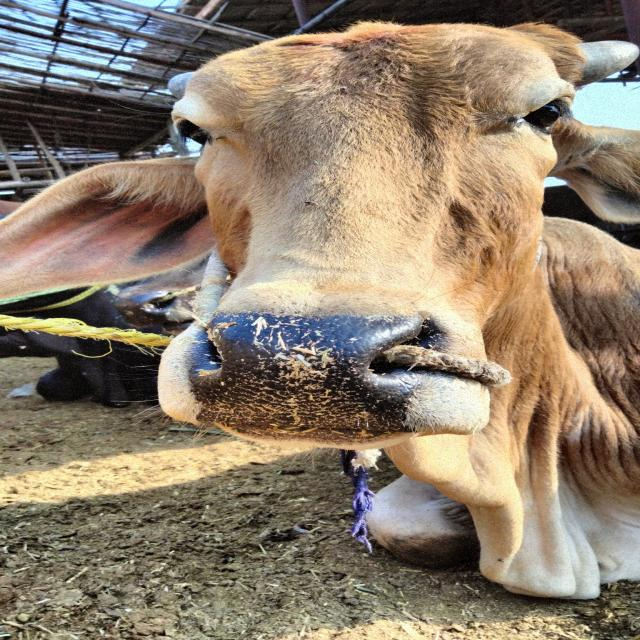muzzles: (182, 300, 458, 448)
